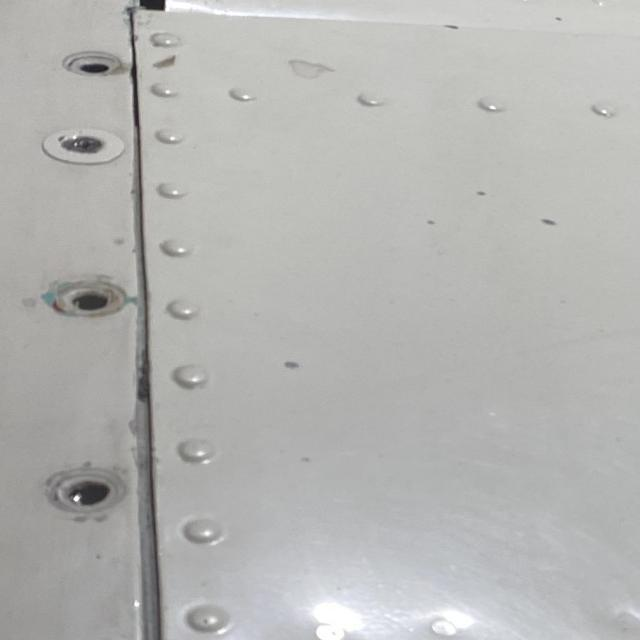Fastener Damage: (37, 281, 133, 326), (56, 470, 126, 516), (64, 52, 130, 84)
